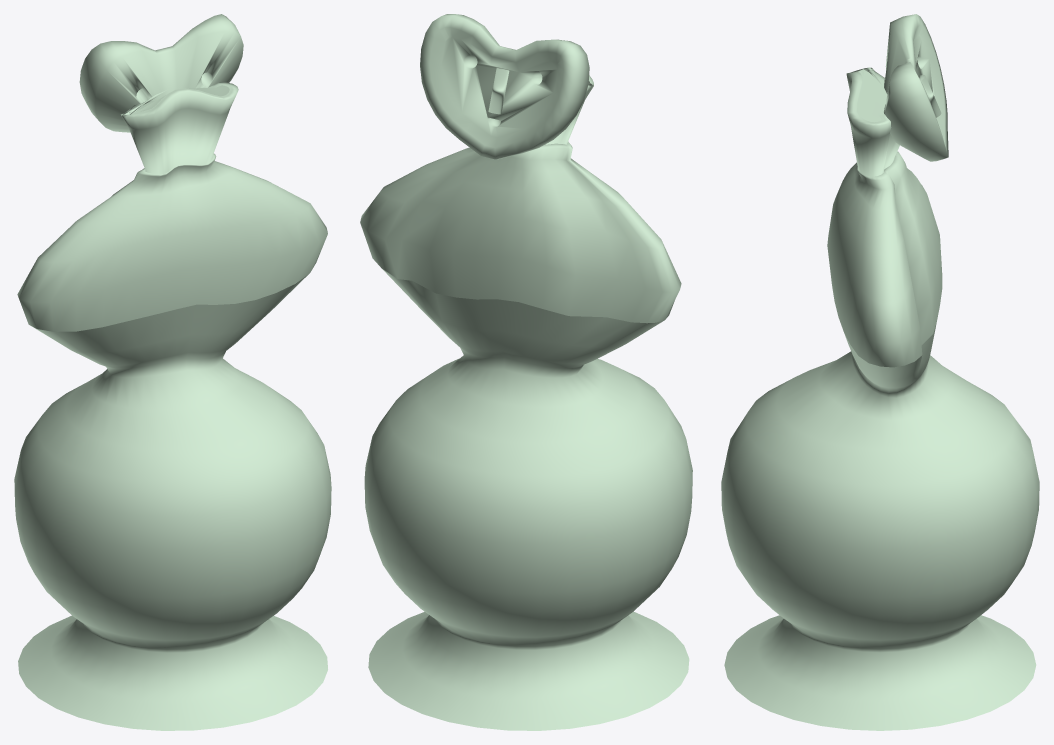
Rendered from raforet1_1blend_color_white.glb.
3 renders of one model, left to right at view 1: azimuth 30°, elevation 25°; view 2: azimuth 150°, elevation 25°; view 3: azimuth 270°, elevation 25°, orthographic. The views are drawn at different scales.
Parts seen in each view (by area): view 1: 球, 球.001; view 2: 球, 球.001, 円柱.001; view 3: 球, 球.001.
Part boxes in pixels (left/top/right/bottom): 球: left=14, top=82, right=331, bottom=730; 球.001: left=79, top=14, right=243, bottom=132; 球: left=360, top=75, right=692, bottom=730; 球.001: left=420, top=14, right=589, bottom=159; 円柱.001: left=488, top=67, right=509, bottom=114; 球: left=721, top=67, right=1039, bottom=730; 球.001: left=884, top=14, right=948, bottom=161.
Bounding box in the file's own units: 1.55 × 3 × 1.38.
